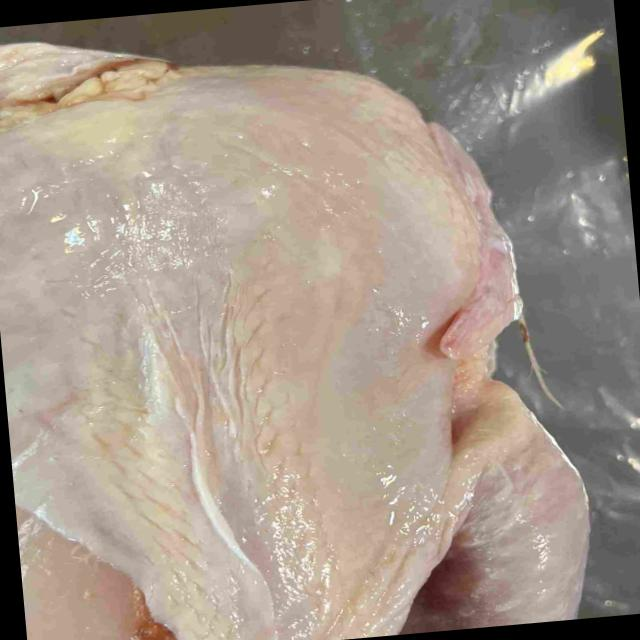breast: (0, 70, 478, 640)
leg: (390, 390, 593, 635)
